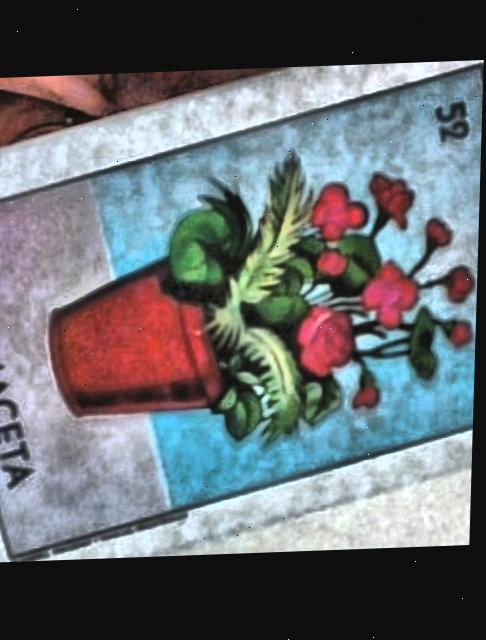La Maceta: (0, 72, 483, 552)
